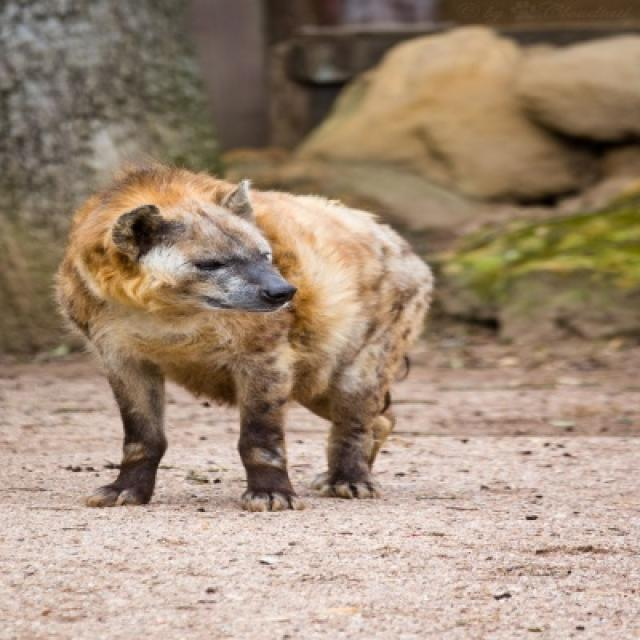hyena: (56, 168, 435, 510)
